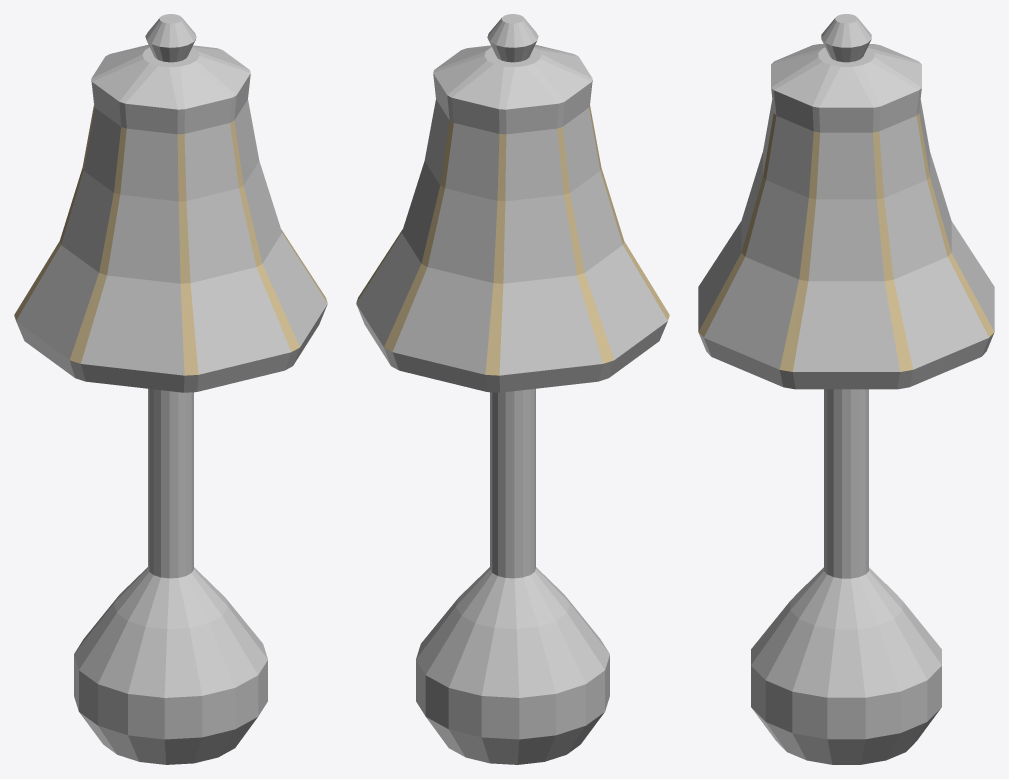
File: rustic_standing_lamp.obj
The picture shows the model from 3 angles, left to right: view 1: azimuth 30°, elevation 25°; view 2: azimuth 150°, elevation 25°; view 3: azimuth 270°, elevation 25°; orthographic projection.
Parts seen in each view (by area): view 1: rustic_standing_lamp; view 2: rustic_standing_lamp; view 3: rustic_standing_lamp.
Boxes of the visible parts, x1,y1,x2,y2 form: rustic_standing_lamp: (14,14,327,764); rustic_standing_lamp: (356,14,669,764); rustic_standing_lamp: (698,14,994,764).
Bounding box in the file's own units: 0.5171 × 1.38 × 0.5171.
